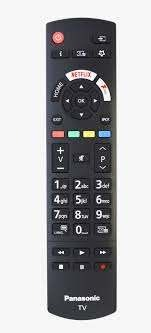remote control: (38, 13, 128, 323)
